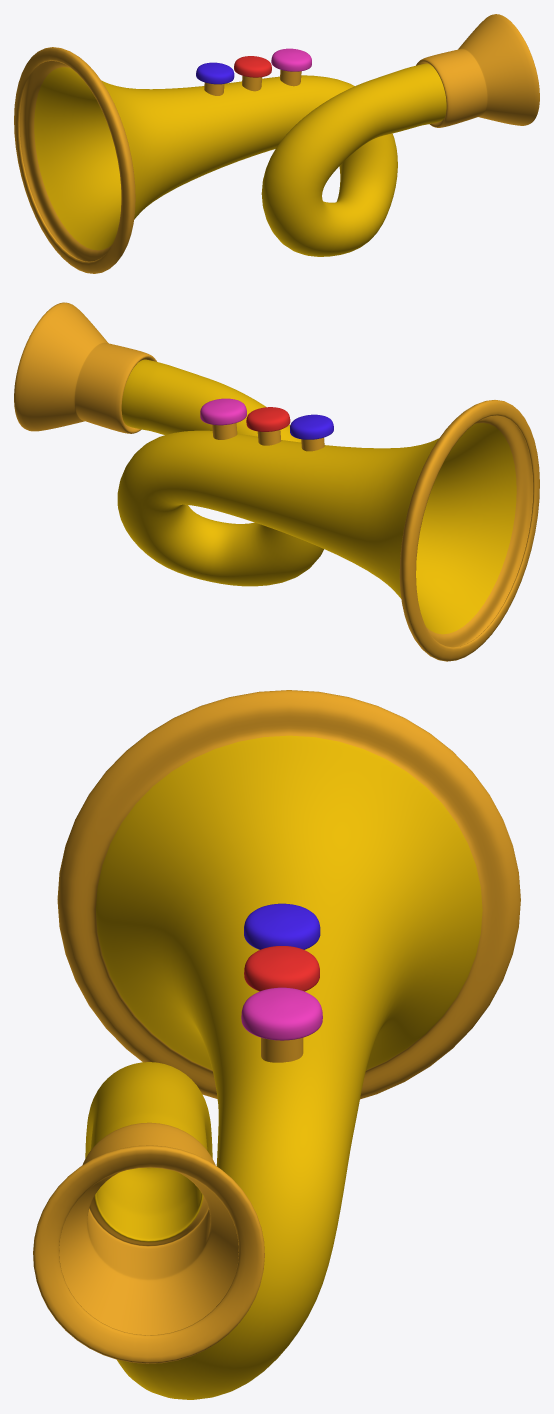
File: trumpet.fbx
The picture shows the model from 3 angles, top to bottom: view 1: azimuth 30°, elevation 25°; view 2: azimuth 150°, elevation 25°; view 3: azimuth 270°, elevation 25°; orthographic projection. The views are drawn at different scales.
Visible parts, largest first — view 1: Vert; view 2: Vert; view 3: Vert.
Part boxes in pixels (bbox=[...]): Vert: bbox=[14, 14, 539, 273]; Vert: bbox=[14, 302, 539, 661]; Vert: bbox=[33, 690, 520, 1399].
Size of the model in its own units: 1735 by 929 by 891.
